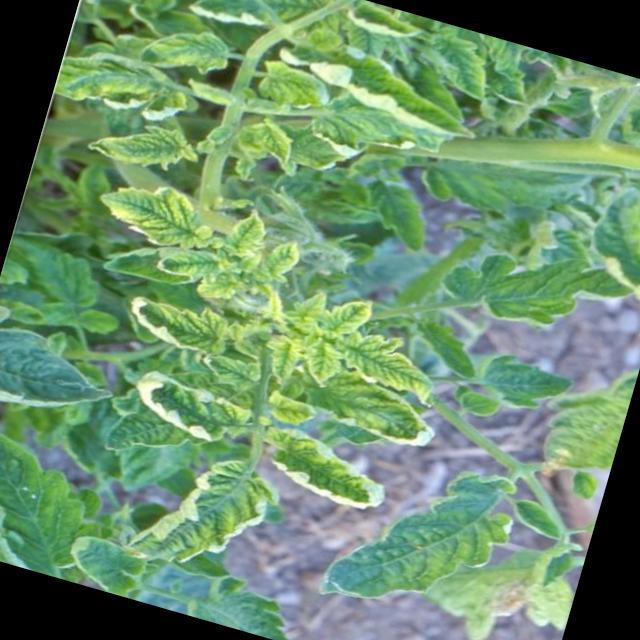Tomato yellow virus leaf: (106, 432, 282, 592), (252, 414, 400, 518), (51, 36, 192, 132), (86, 167, 226, 263), (324, 324, 448, 410), (122, 370, 249, 450), (78, 103, 198, 181), (120, 288, 235, 360), (245, 52, 338, 121), (234, 110, 300, 167), (314, 286, 377, 344), (294, 334, 354, 392)
